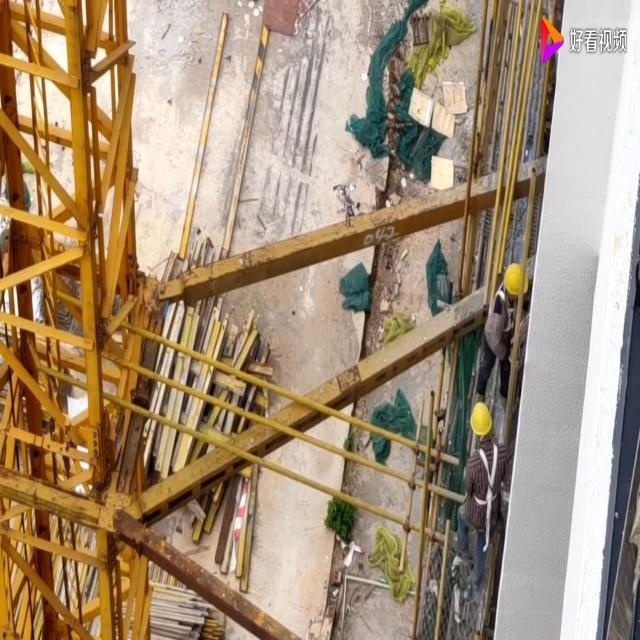Arnes_seguridad: (471, 438, 501, 509), (492, 276, 519, 339)
